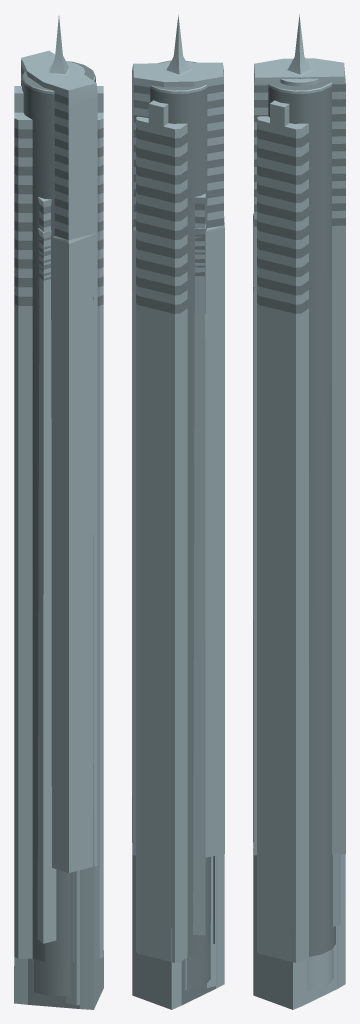
File: Buildings.fbx
3 views of the same model, side by side, from view 1: azimuth 90°, elevation 25°; view 2: azimuth 150°, elevation 25°; view 3: azimuth 330°, elevation 25° (orthographic).
Visible parts, largest first — view 1: Building3, Building7, Building2, Building, Building6, Building1, Building8; view 2: Building7, Building3, Building2, Building, Building6, Building1, Building8; view 3: Building7, Building3, Building, Building6, Building8, Building1, Building2.
Part boxes in pixels (<box>): Building3: <box>21,50,97,872</box>; Building7: <box>14,61,103,961</box>; Building2: <box>37,197,56,912</box>; Building: <box>14,16,103,1009</box>; Building6: <box>34,869,70,996</box>; Building1: <box>66,870,79,1005</box>; Building8: <box>37,228,56,943</box>; Building7: <box>136,60,214,962</box>; Building3: <box>132,62,224,857</box>; Building2: <box>193,193,205,904</box>; Building: <box>132,14,224,1009</box>; Building6: <box>185,856,210,990</box>; Building1: <box>207,855,217,988</box>; Building8: <box>193,224,205,935</box>; Building7: <box>257,78,335,962</box>; Building3: <box>253,58,345,855</box>; Building: <box>253,14,345,1009</box>; Building6: <box>306,947,333,990</box>; Building8: <box>333,854,340,926</box>; Building1: <box>330,926,338,987</box>; Building2: <box>333,854,339,895</box>.
Size of the model in its own units: 3401 by 38151 by 3161.
